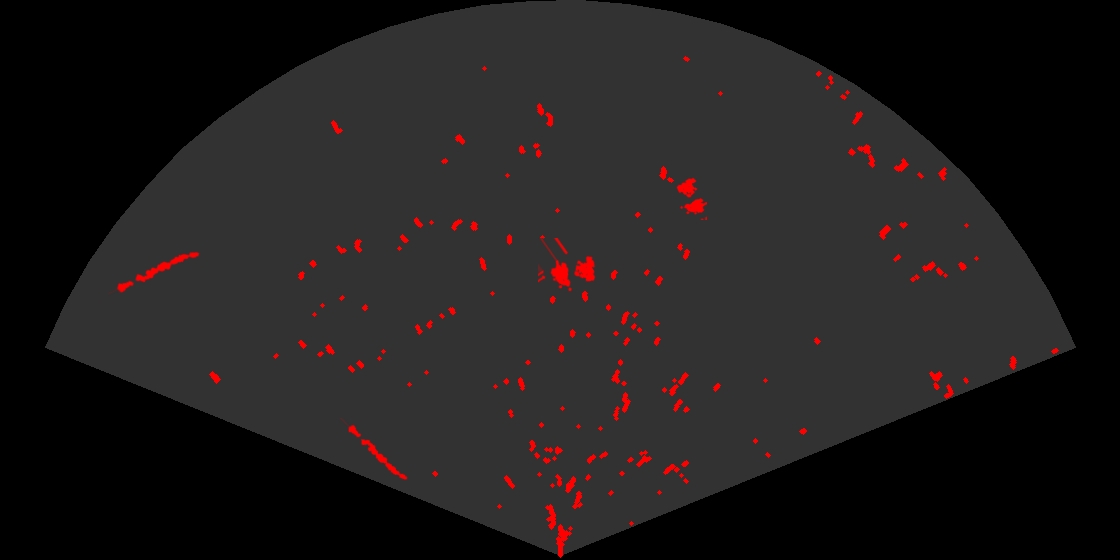cage: (538, 238, 597, 293), (675, 176, 707, 220)
chain: (338, 418, 409, 481), (108, 250, 201, 296)
